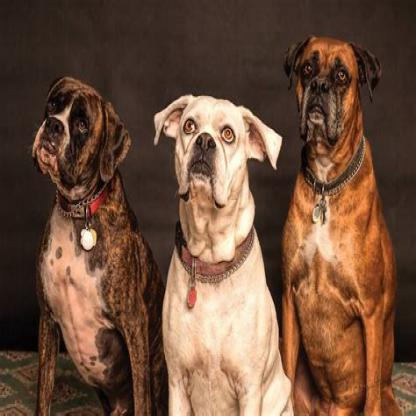dog: (282, 35, 404, 415), (30, 76, 166, 415), (152, 93, 288, 414)
